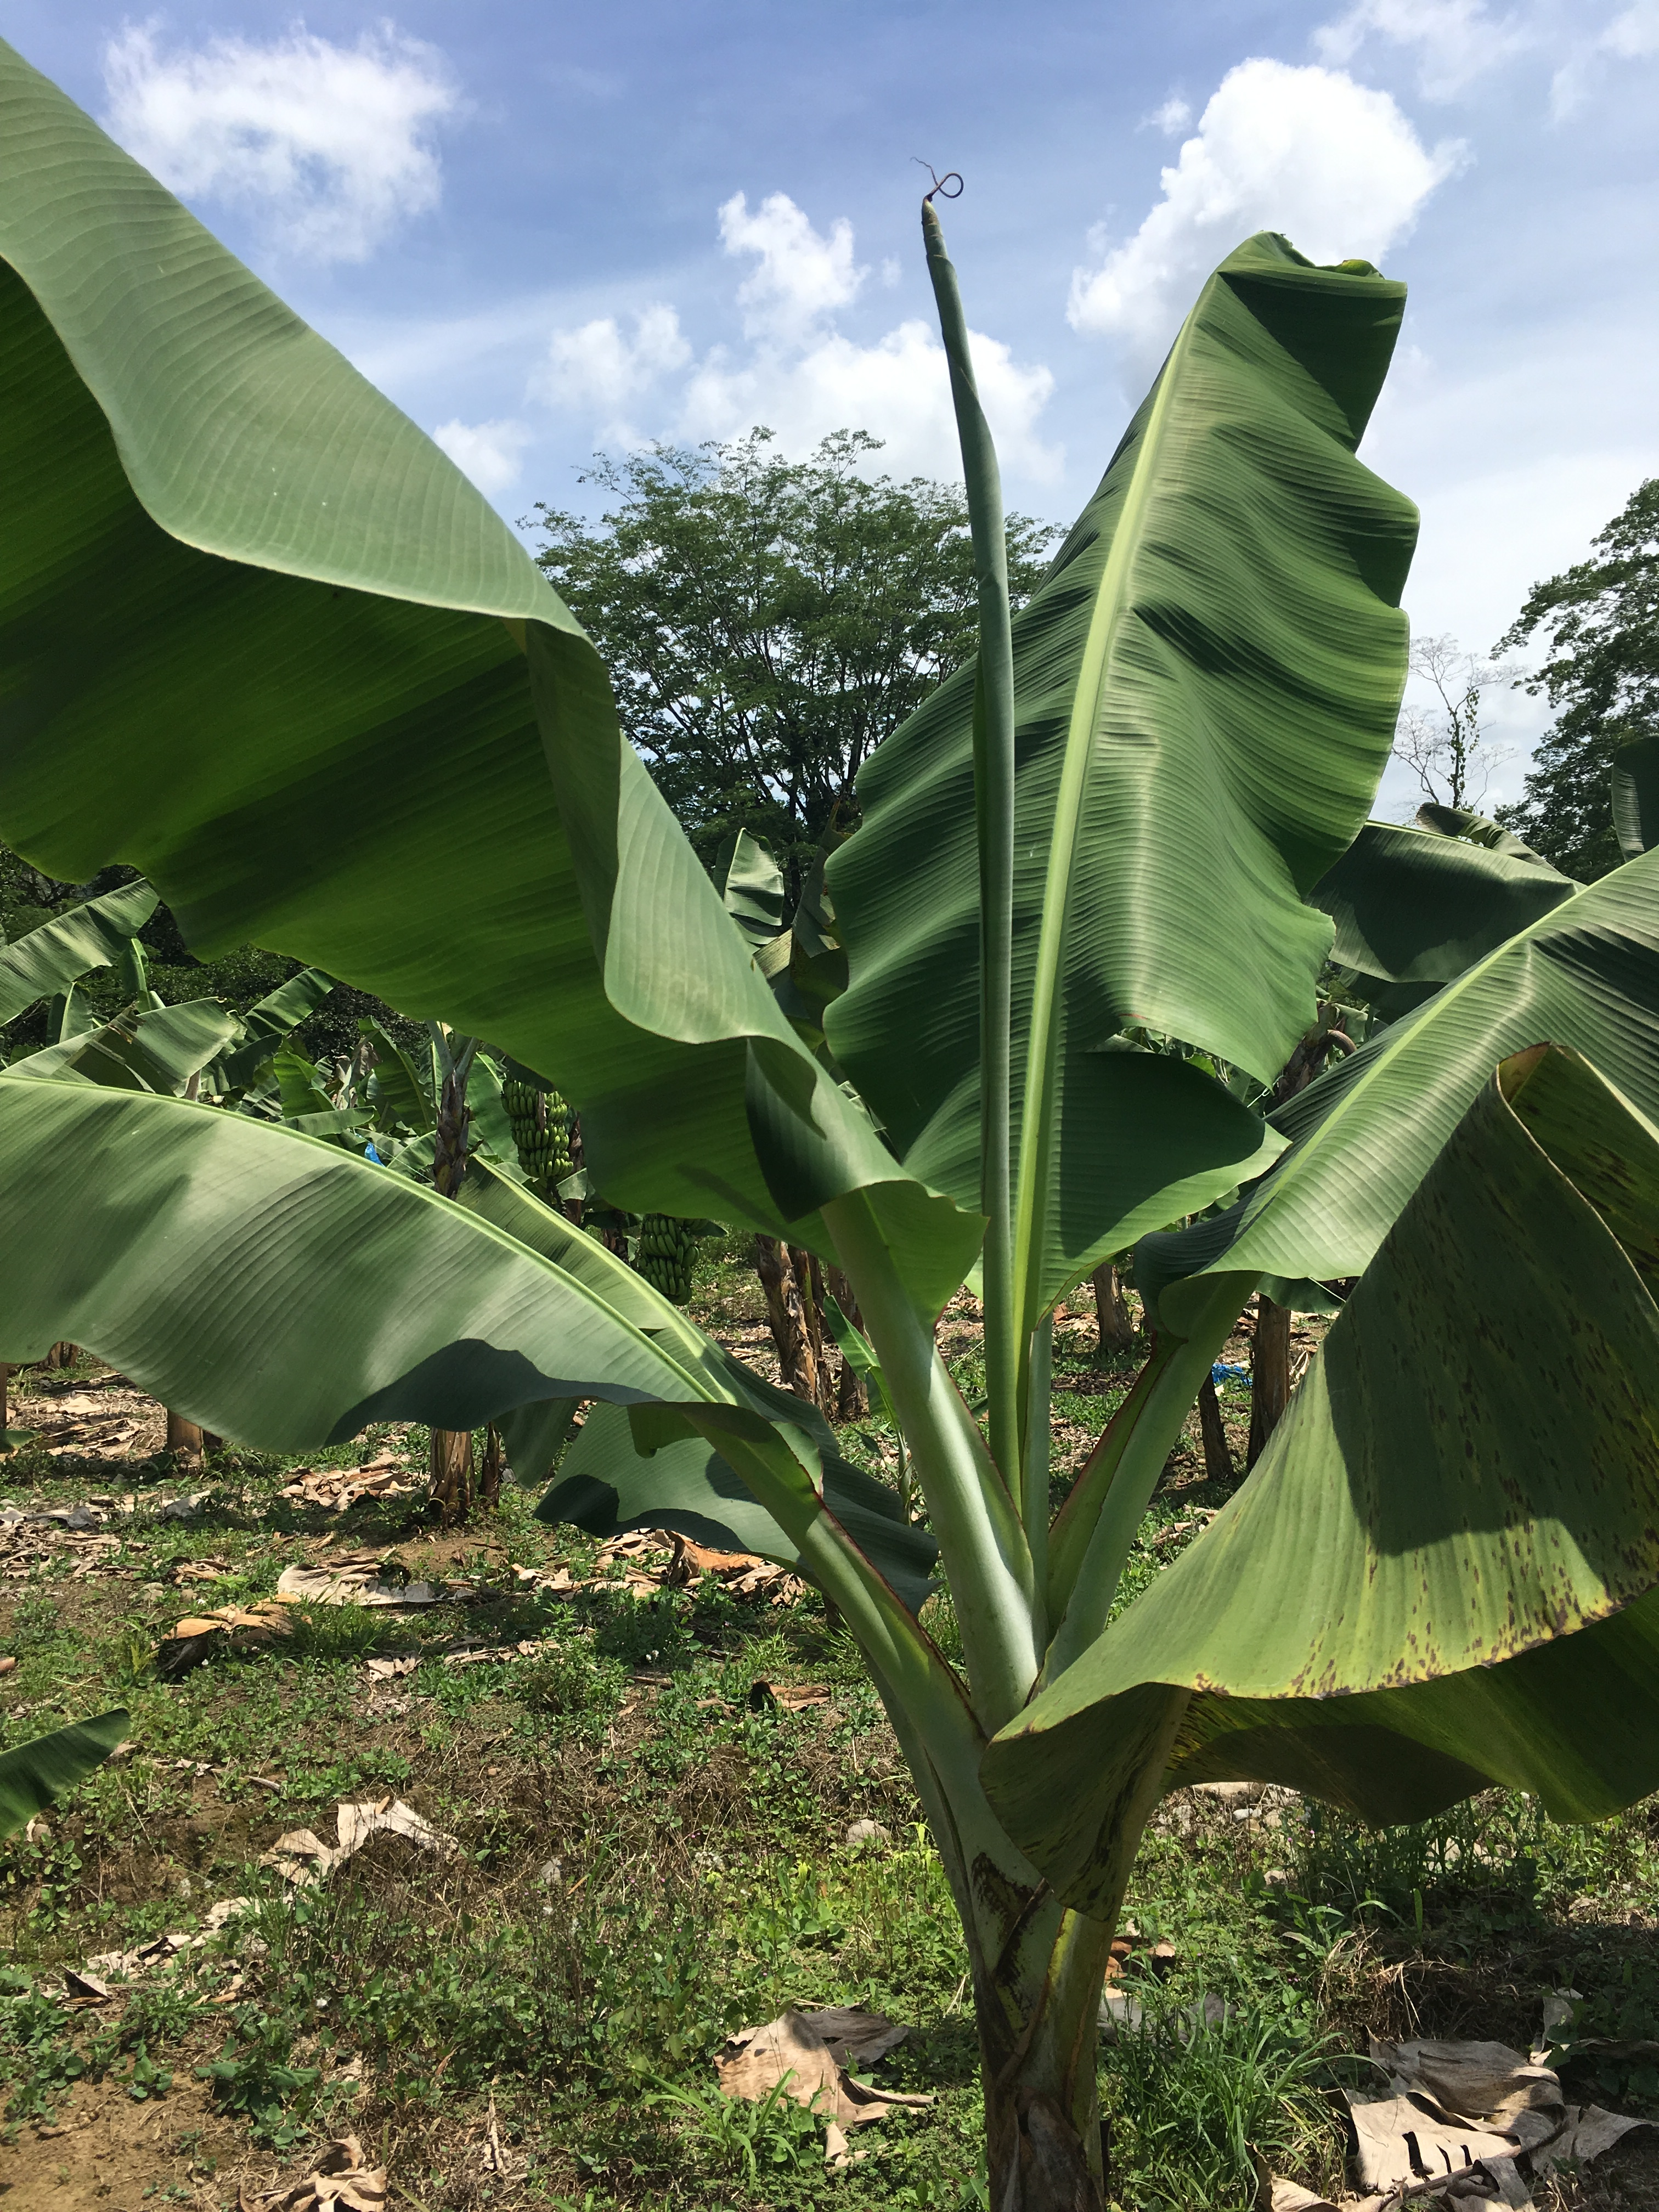candleleafs: (910, 165, 1039, 1474)
